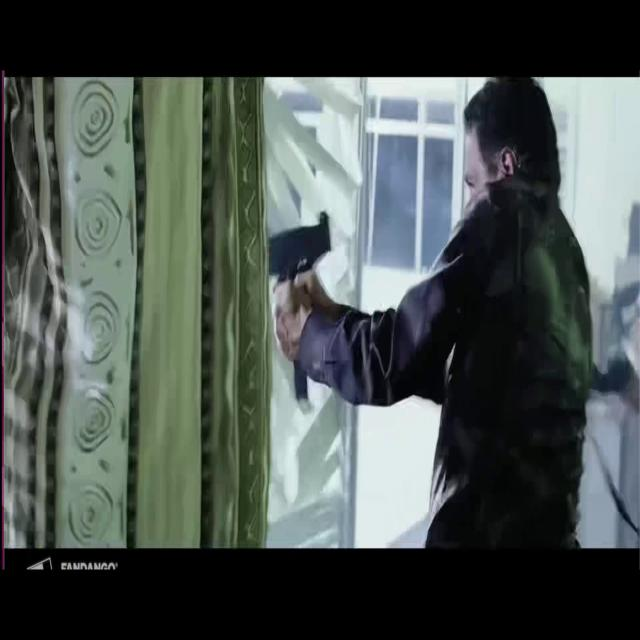weapons: (262, 208, 346, 411)
